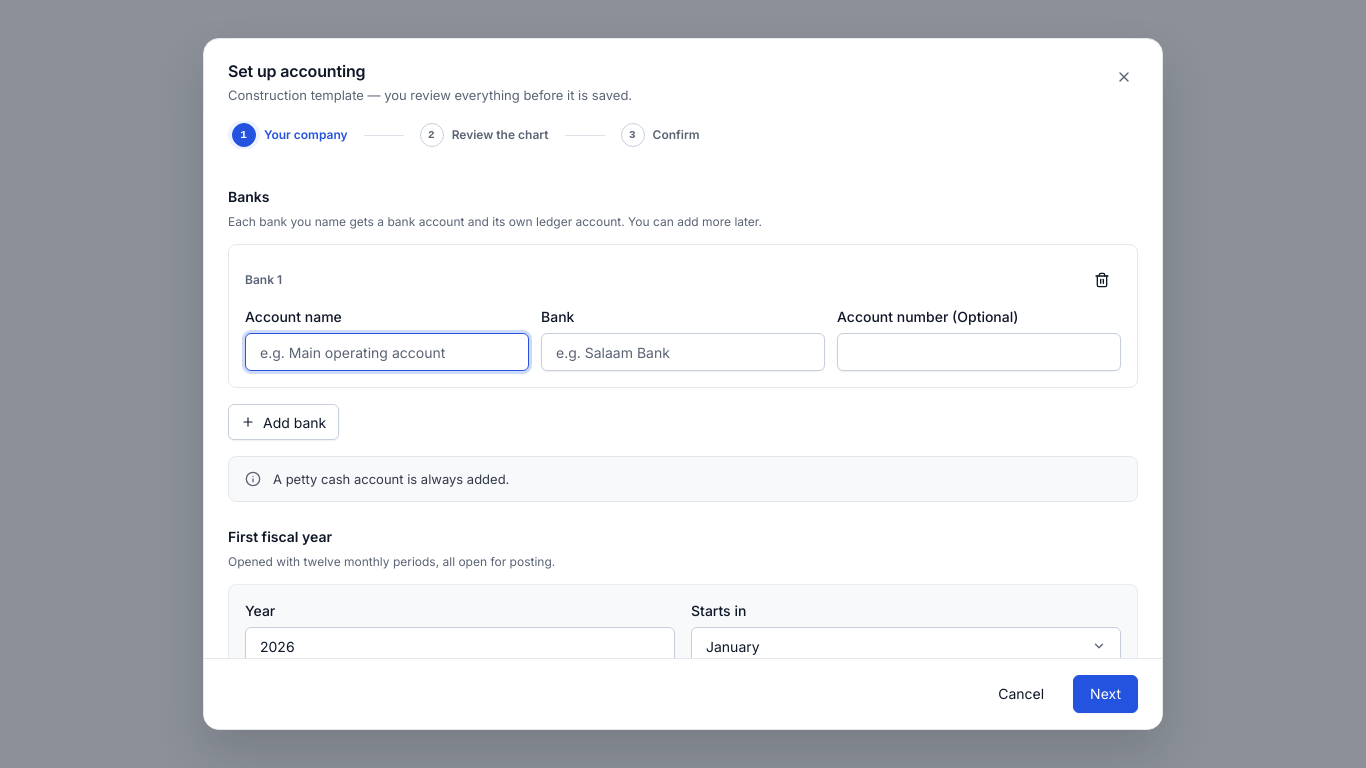
it: AccountingSetupDialog — review › previews the chart for the choices: typed bank names, control badge, counts
Type "Main operating" into the field labelled "Account name" at (387, 352), box left=245, top=333, right=529, bottom=371
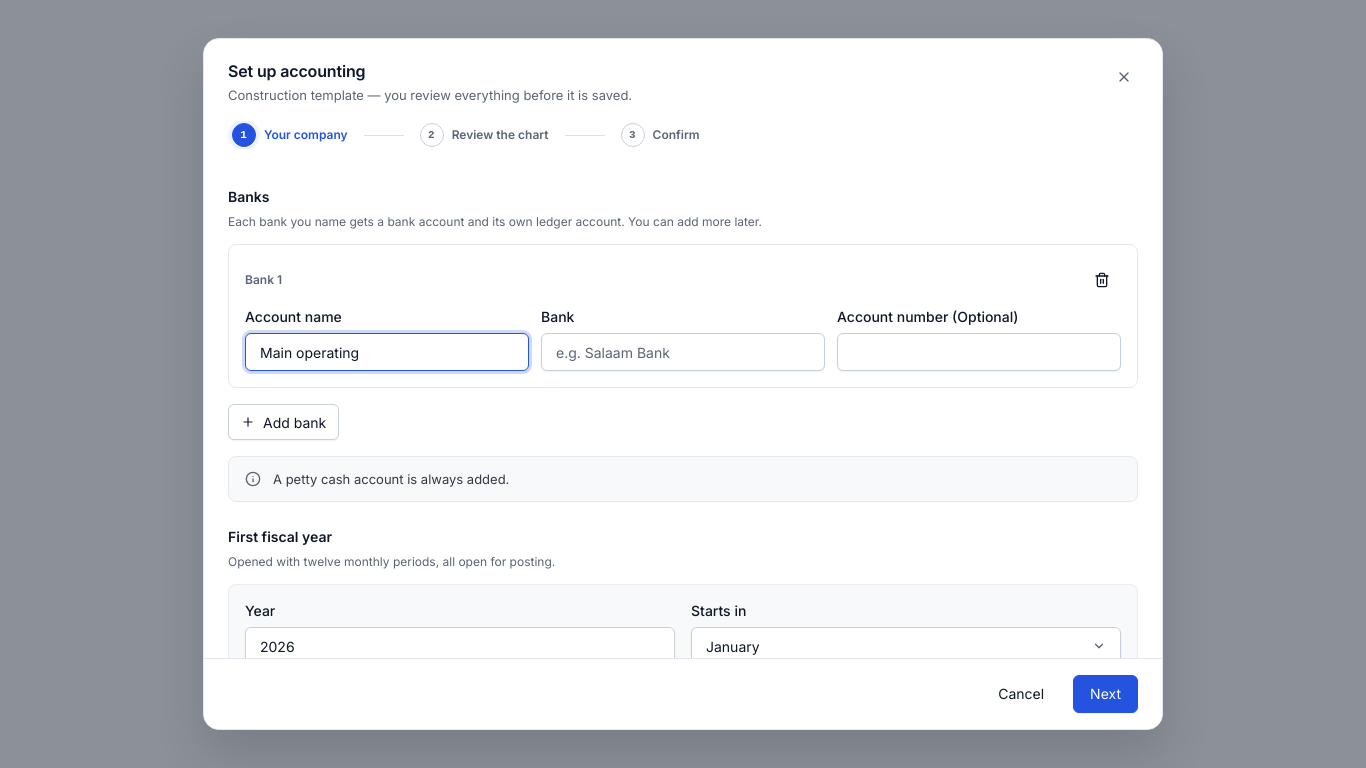
Type "Salaam Bank" into the field labelled "Bank" at (683, 352), box left=541, top=333, right=825, bottom=371
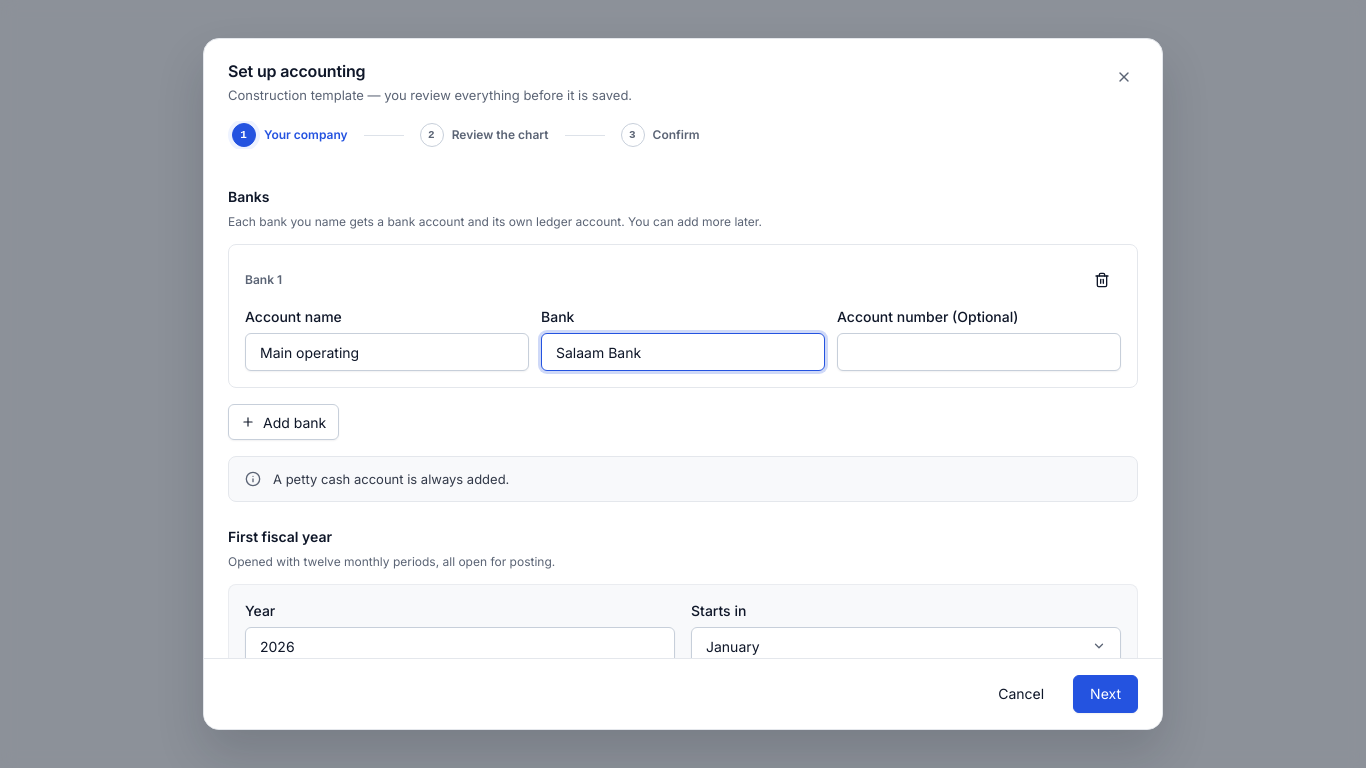
Click the button "Next" at (1106, 694), box left=1073, top=675, right=1138, bottom=713
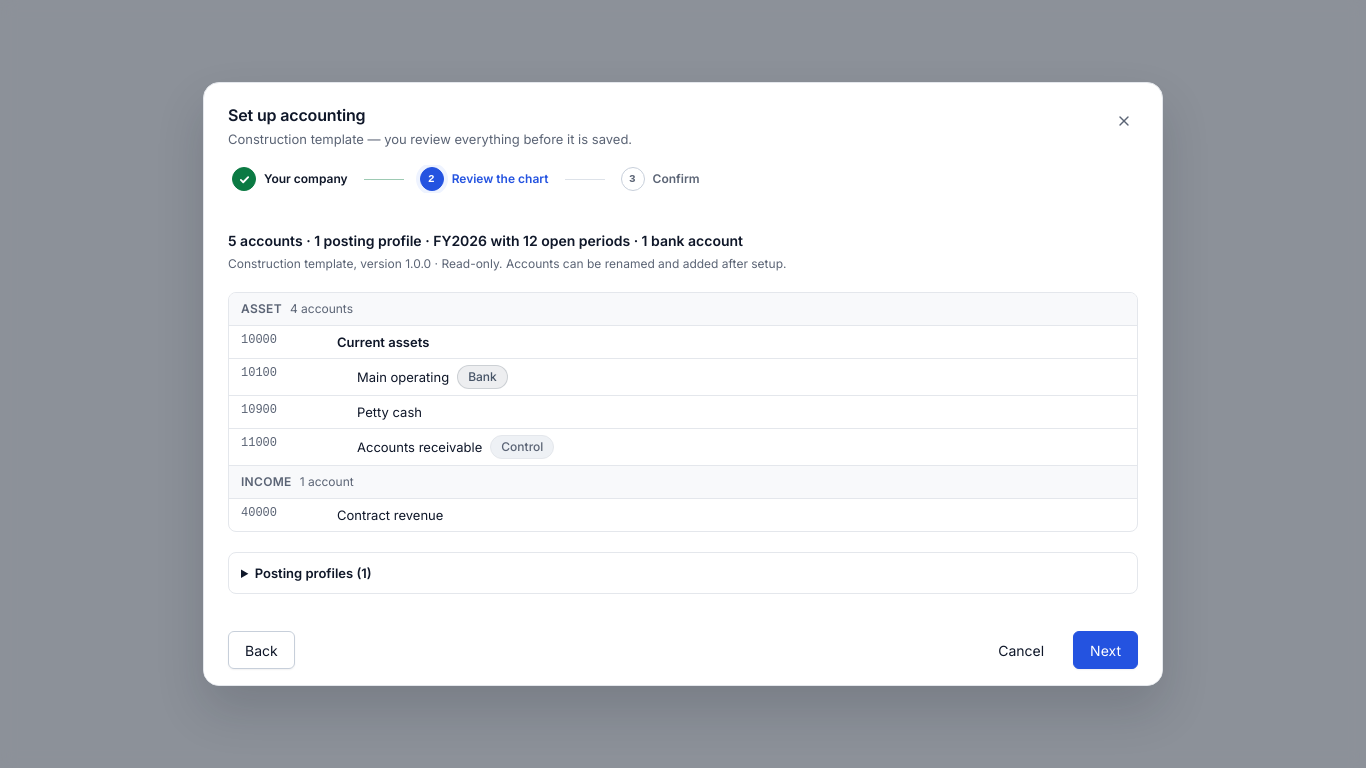
Now the text "Main operating" is shown, box left=357, top=367, right=449, bottom=387
Now the text "Control" is shown, box left=490, top=435, right=554, bottom=459
Now the column heading "Asset4 accounts" is shown, box left=229, top=293, right=1137, bottom=326
